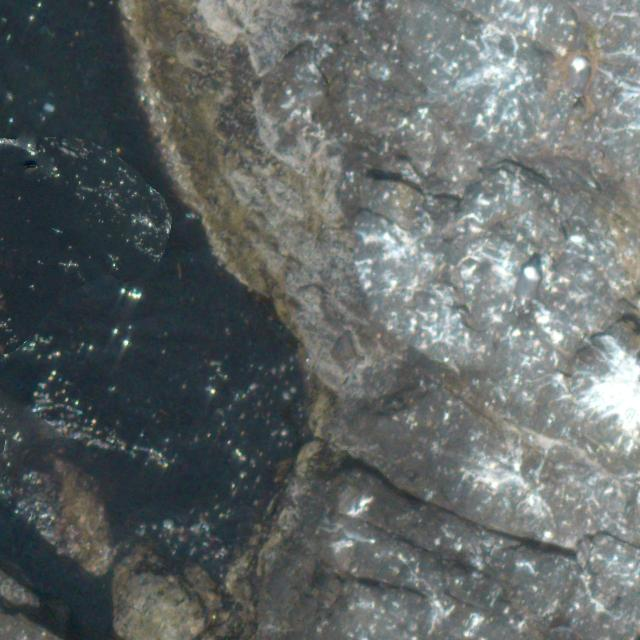umineko: (518, 265, 538, 300), (569, 58, 589, 92)
